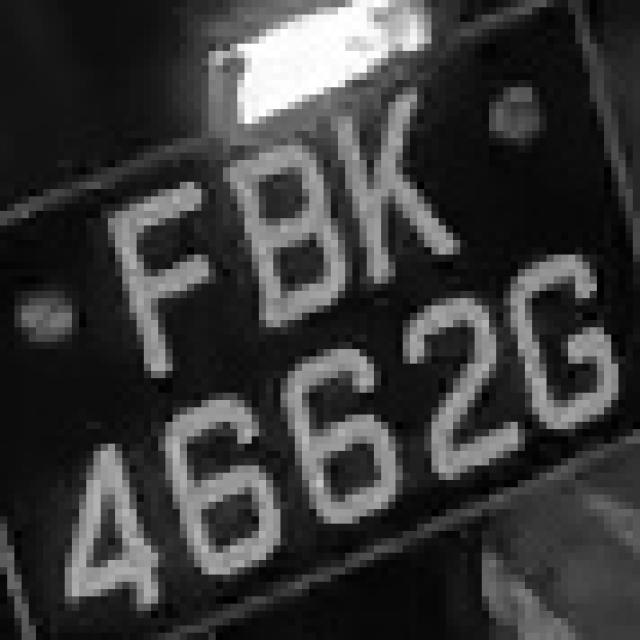2: (374, 291, 532, 509)
4: (15, 443, 166, 632)
6: (129, 400, 302, 582), (266, 349, 403, 524)
B: (216, 116, 345, 334)
F: (86, 182, 223, 371)
G: (474, 248, 626, 437)
K: (331, 87, 453, 298)
